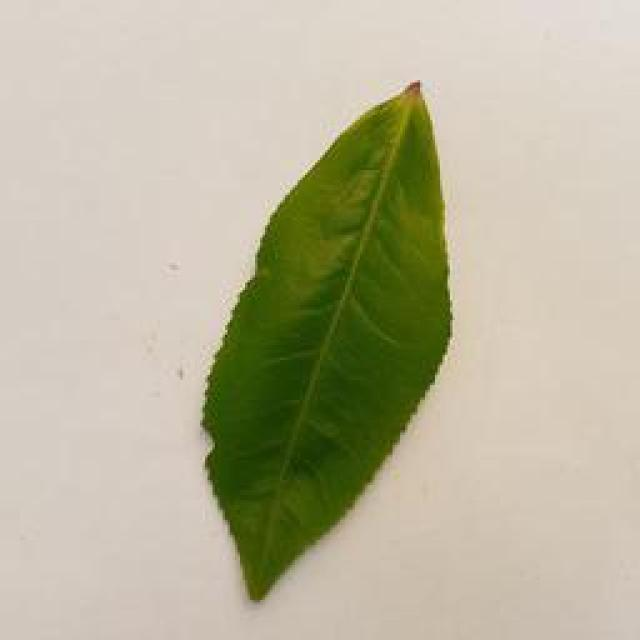Healthy: (206, 80, 448, 596)
